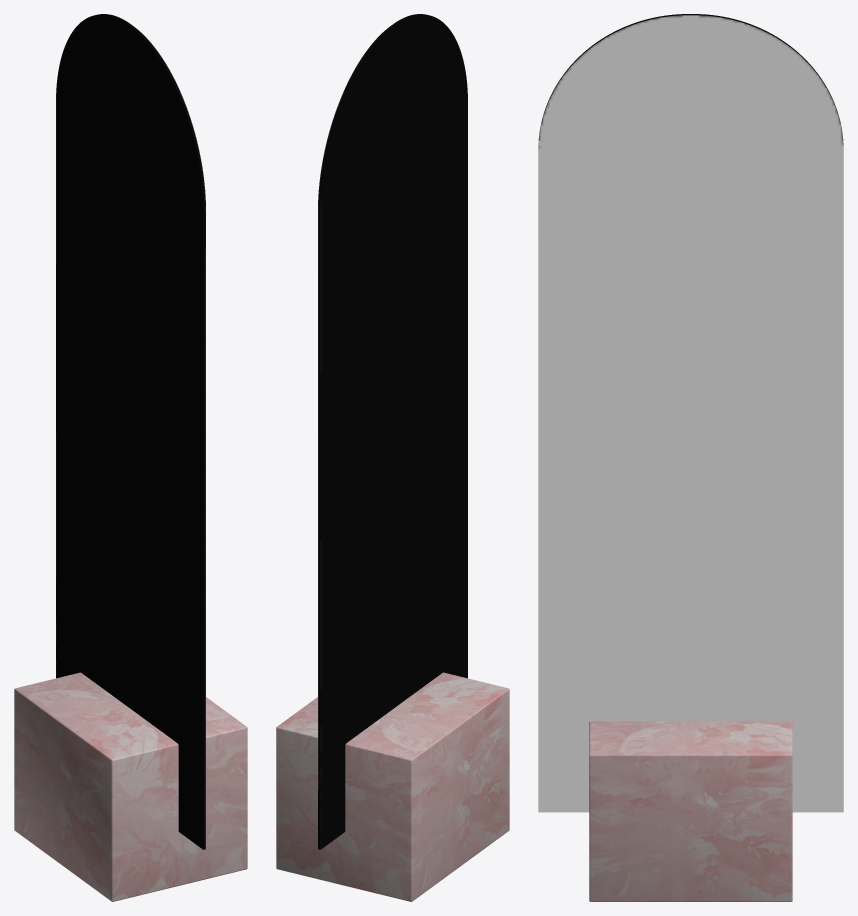
Rendered from pink_mirror.glb.
The picture shows the model from 3 angles, left to right: view 1: azimuth 30°, elevation 25°; view 2: azimuth 150°, elevation 25°; view 3: azimuth 270°, elevation 25°; orthographic projection. The views are drawn at different scales.
Parts seen in each view (by area): view 1: Cube.002; view 2: Cube.002; view 3: Cube.002.
Part boxes in pixels (box(x1,y1,x2,y2)): Cube.002: box(14, 14, 247, 901); Cube.002: box(276, 14, 509, 901); Cube.002: box(538, 14, 843, 901).
Bounding box in the file's own units: 0.32 × 1.85 × 0.6.
Materials: 1 (1 with a texture image).
